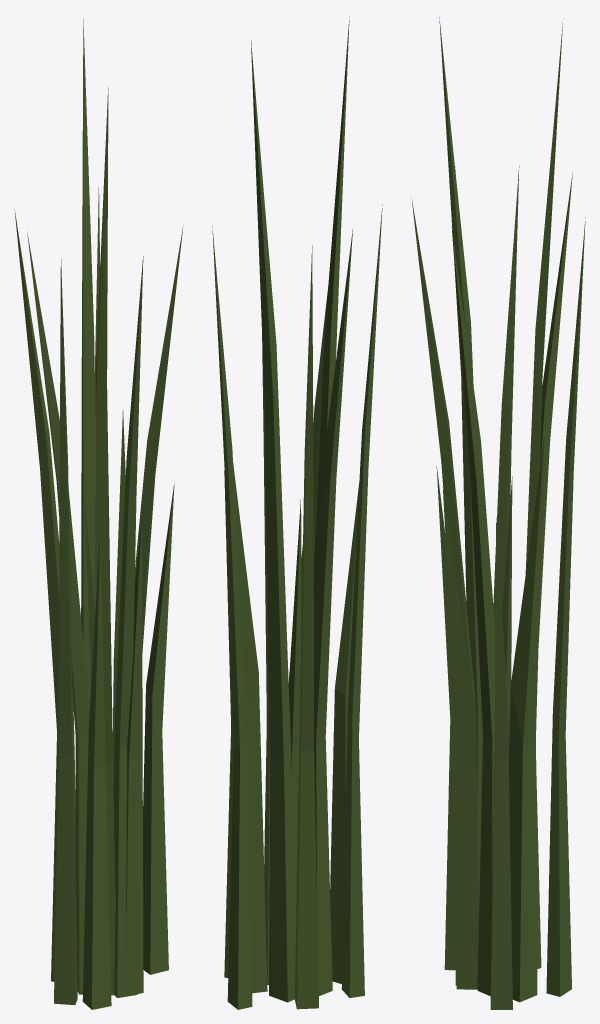
Rendered from High Grass_3.fbx.
3 renders of one model, left to right at view 1: azimuth 30°, elevation 25°; view 2: azimuth 150°, elevation 25°; view 3: azimuth 270°, elevation 25°, orthographic. The views are drawn at different scales.
Visible parts, largest first — view 1: High Grass_3; view 2: High Grass_3; view 3: High Grass_3.
Part boxes in pixels (x1,y1,x2,y2): High Grass_3: (14,19,183,1009); High Grass_3: (212,16,382,1009); High Grass_3: (411,17,585,1009).
Size of the model in its own units: 0.4619 by 3.05 by 0.498.
